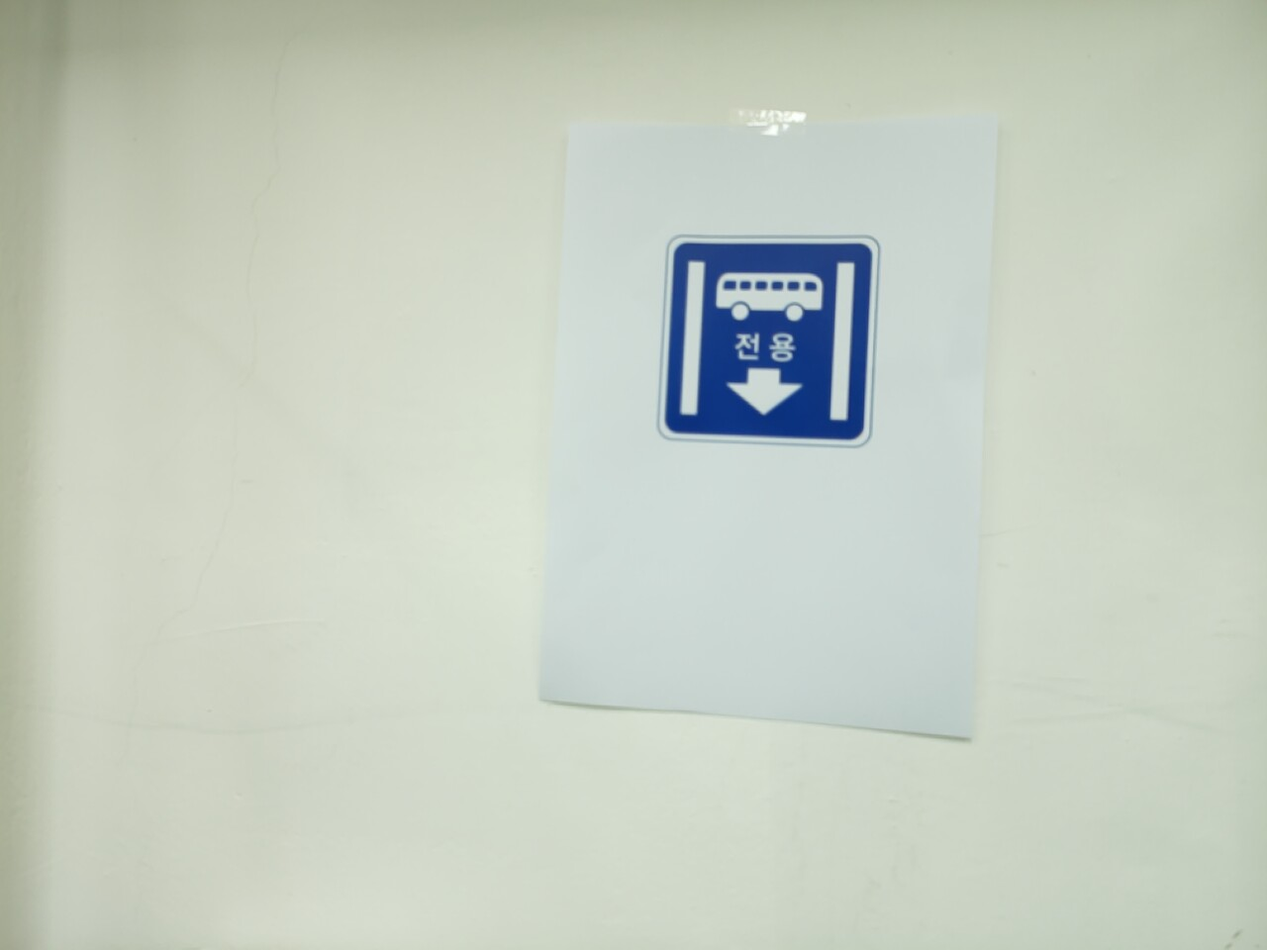bus_only_lane: (656, 235, 880, 448)
